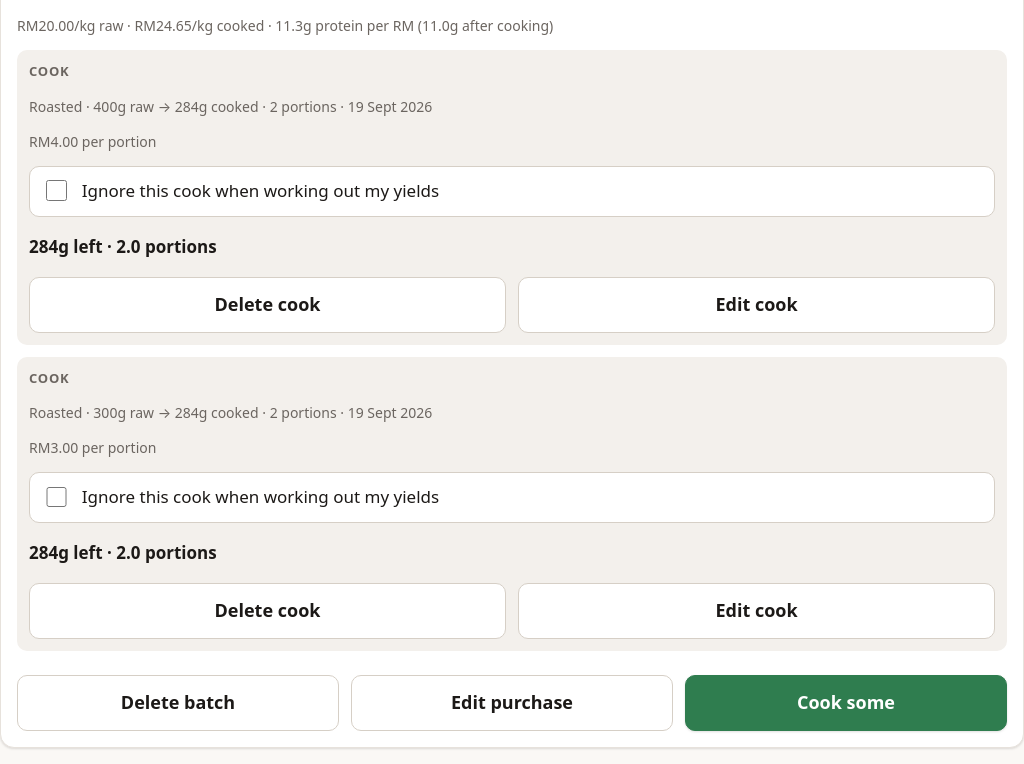
BatchCard › names what a delete will take with it
(page scrolled)
What coordinates should you click on to do the following:
click the button "Delete batch"
I would click on:
 (178, 703)
Its box is [17,675,339,731].
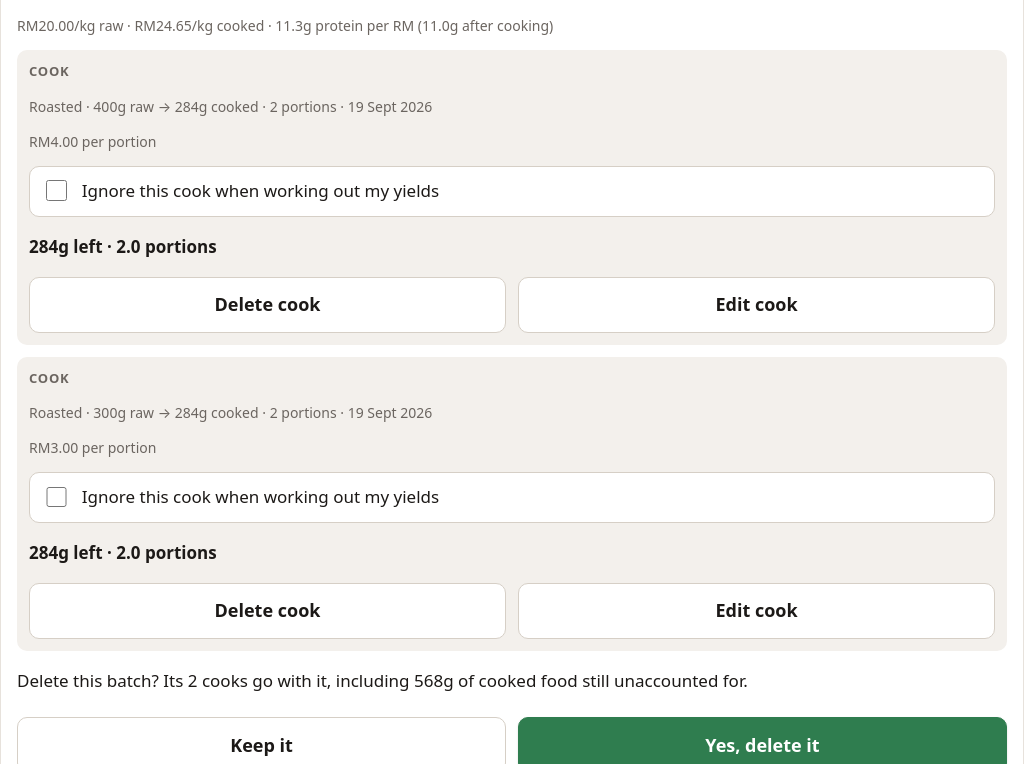
Expected: the text "Delete this batch" shows "2 cooks", [17,669,748,692]
Expected: the text "Delete this batch" shows "568g", [414,669,454,692]
